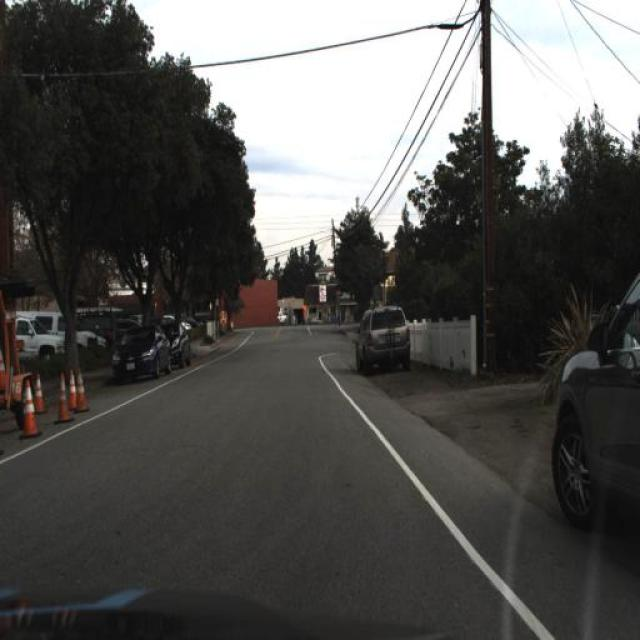car: (552, 252, 639, 554), (353, 300, 412, 374), (0, 316, 74, 373), (109, 318, 172, 384), (28, 313, 100, 367), (352, 306, 412, 366), (110, 330, 172, 380), (152, 320, 192, 370), (171, 314, 194, 378)
